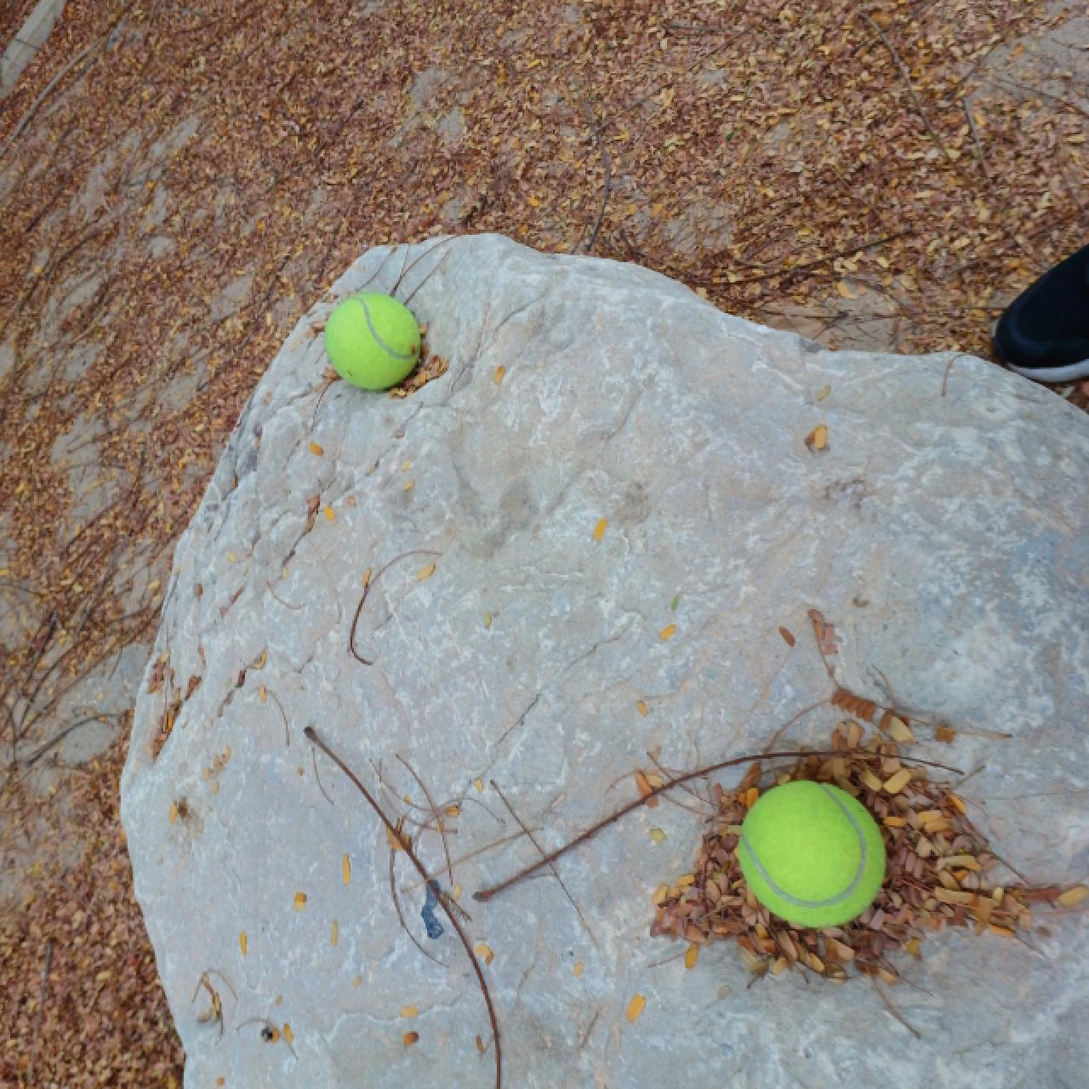tennis-ball: (736, 775, 888, 931), (322, 292, 422, 392)
